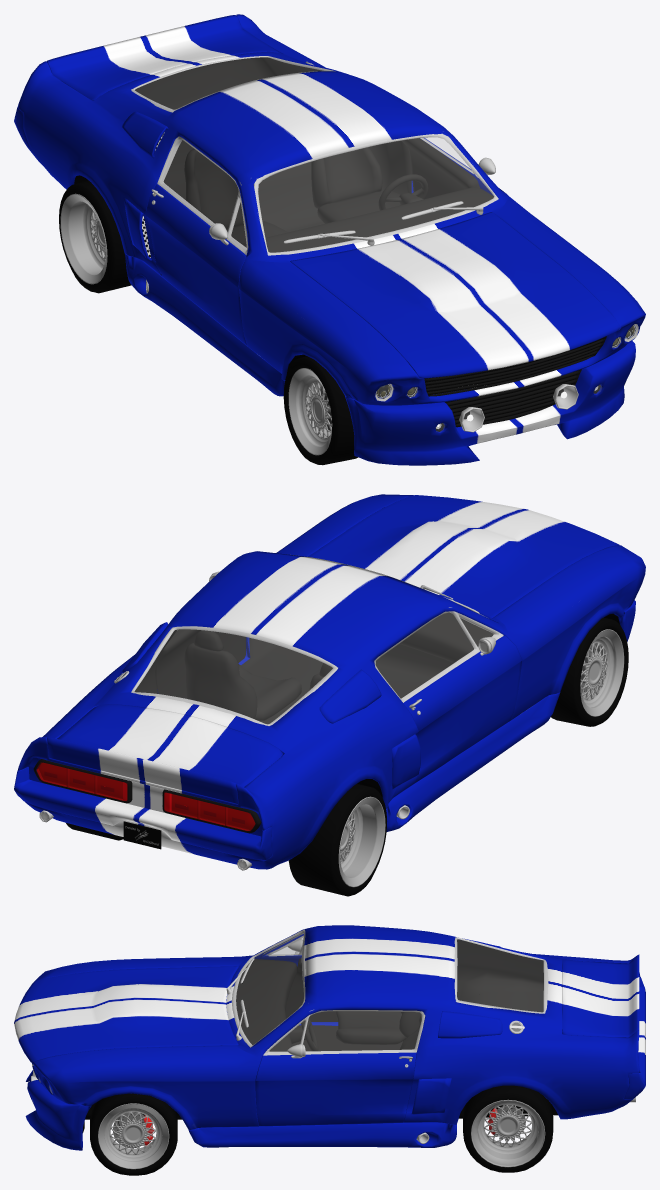
File: carconcept.glb
The picture shows the model from 3 angles, top to bottom: view 1: azimuth 30°, elevation 25°; view 2: azimuth 150°, elevation 25°; view 3: azimuth 270°, elevation 25°; orthographic projection. The views are drawn at different scales.
Visible parts, largest first — view 1: Body, Bonnet, Windscreen.002, Interior, BumperFront, Door, Tailgate.002, Seat, SideSkirt, WindowSide.002, WindscreenRear.002, GrillTop.002 (+13 smaller); view 2: Body, Bonnet, Tailgate.002, WindscreenRear.002, Door, Interior, BumperRear, Seat, WindowSide.002, SideSkirt, Tyre_low.008, TailLight_Inside.004 (+11 smaller); view 3: Body, Bonnet, Door, Interior, Tailgate.002, SideSkirt, WindowSide.002, WindscreenRear.002, Windscreen.002, Seat, Tyre_low.008, BumperFront (+14 smaller).
Part boxes in pixels (x1,y1,x2,y2): Body: [17, 14, 645, 405]; Bonnet: [290, 212, 619, 378]; Windscreen.002: [258, 137, 494, 252]; Interior: [135, 57, 493, 252]; BumperFront: [345, 341, 635, 465]; Door: [145, 138, 493, 345]; Tailgate.002: [47, 15, 281, 100]; Seat: [184, 147, 400, 243]; SideSkirt: [125, 254, 285, 396]; WindowSide.002: [161, 138, 470, 250]; WindscreenRear.002: [135, 57, 327, 108]; GrillTop.002: [424, 336, 606, 396]; Body: [17, 494, 645, 869]; Bonnet: [308, 495, 619, 618]; Tailgate.002: [47, 704, 283, 804]; WindscreenRear.002: [135, 626, 332, 723]; Door: [238, 635, 522, 782]; Interior: [134, 612, 493, 724]; BumperRear: [14, 767, 271, 859]; Seat: [184, 630, 332, 720]; WindowSide.002: [376, 613, 498, 699]; SideSkirt: [243, 659, 560, 831]; Tyre_low.008: [66, 784, 386, 896]; TailLight_Inside.004: [36, 762, 255, 830]; Body: [32, 925, 640, 1129]; Bonnet: [14, 966, 238, 1063]; Door: [255, 955, 416, 1126]; Interior: [236, 939, 543, 1051]; Tailgate.002: [562, 956, 639, 1037]; SideSkirt: [188, 1025, 456, 1147]; WindowSide.002: [268, 939, 421, 1053]; WindscreenRear.002: [455, 938, 543, 1011]; Windscreen.002: [235, 933, 303, 1044]; Seat: [336, 1011, 421, 1049]; Tyre_low.008: [463, 1085, 553, 1172]; BumperFront: [25, 1070, 91, 1150].
Size of the model in its own units: 212 by 141 by 482.
Materials: 36 (9 with a texture image).
